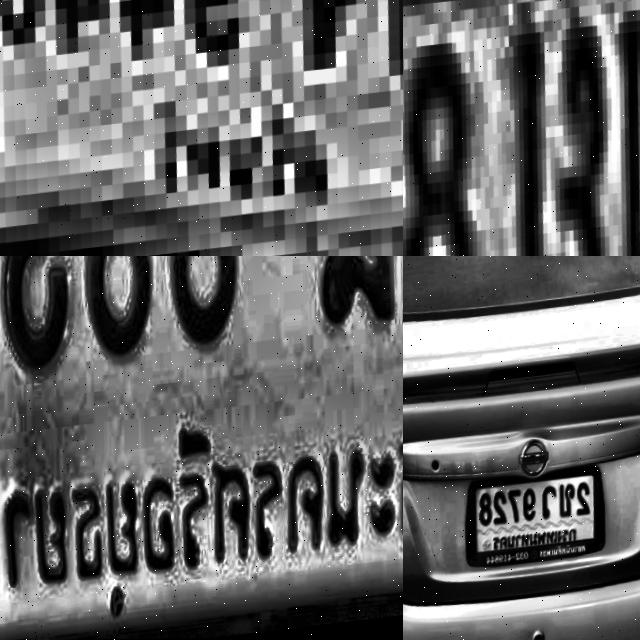license-plate: (0, 256, 403, 640), (0, 0, 403, 256), (403, 0, 640, 256), (465, 463, 621, 572)
